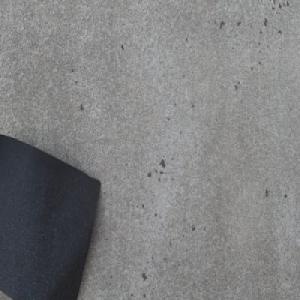PaintChip: (0, 133, 101, 300)
